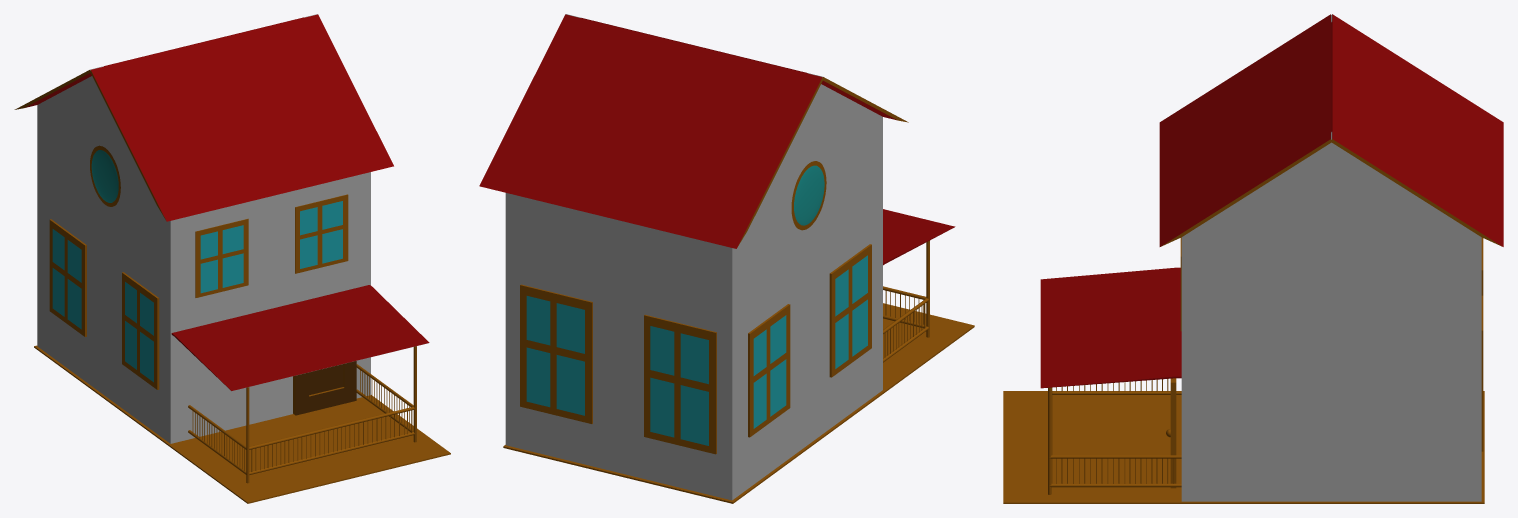
Rendered from unityev2.fbx.
3 views of the same model, side by side, from view 1: azimuth 30°, elevation 25°; view 2: azimuth 150°, elevation 25°; view 3: azimuth 270°, elevation 25° (orthographic). The views are drawn at different scales.
Visible parts, largest first — view 1: pasted__pCube1, pasted__pCube4, pCube1, pasted__pasted__pasted__pCube5, pasted__pasted__pasted__pasted__pCube5, pasted__pasted__pCube5, pasted__pCube5, pasted__pCube2, pSphere1, pSphere2, pasted__pasted__pasted__pCylinder3, pasted__pasted__pasted__pasted__pCylinder2; view 2: pasted__pCube1, pasted__pasted__pasted__pasted__pasted__pCube5, pasted__pasted__pasted__pasted__pasted__pasted__pCube5, pasted__pCube4, pasted__pCube5, pasted__pasted__pCube5, pCube1, pSphere1, pSphere2; view 3: pasted__pCube1, pasted__pCube4, pCube1, pasted__pCube2, pasted__pasted__pasted__pasted__pCylinder4.
Part boxes in pixels (left/top/right/bottom): pasted__pCube1: left=14, top=14, right=393, bottom=443; pasted__pCube4: left=34, top=345, right=450, bottom=503; pCube1: left=171, top=285, right=429, bottom=391; pasted__pasted__pasted__pCube5: left=195, top=218, right=248, bottom=297; pasted__pasted__pasted__pasted__pCube5: left=295, top=194, right=348, bottom=273; pasted__pasted__pCube5: left=122, top=272, right=159, bottom=389; pasted__pCube5: left=49, top=219, right=86, bottom=336; pasted__pCube2: left=293, top=361, right=356, bottom=415; pSphere1: left=90, top=145, right=120, bottom=206; pSphere2: left=91, top=150, right=118, bottom=202; pasted__pasted__pasted__pCylinder3: left=249, top=406, right=414, bottom=449; pasted__pasted__pasted__pasted__pCylinder2: left=249, top=432, right=414, bottom=474; pasted__pCube1: left=479, top=14, right=908, bottom=500; pasted__pasted__pasted__pasted__pasted__pCube5: left=520, top=284, right=592, bottom=423; pasted__pasted__pasted__pasted__pasted__pasted__pCube5: left=644, top=314, right=716, bottom=454; pasted__pCube4: left=503, top=303, right=974, bottom=503; pasted__pCube5: left=748, top=304, right=790, bottom=437; pasted__pasted__pCube5: left=829, top=244, right=871, bottom=377; pCube1: left=883, top=209, right=955, bottom=265; pSphere1: left=791, top=161, right=826, bottom=230; pSphere2: left=794, top=165, right=824, bottom=225; pasted__pCube1: left=1159, top=14, right=1503, bottom=501; pasted__pCube4: left=1003, top=391, right=1484, bottom=503; pCube1: left=1040, top=267, right=1181, bottom=388; pasted__pCube2: left=1170, top=378, right=1176, bottom=488; pasted__pasted__pasted__pasted__pCylinder4: left=1049, top=483, right=1181, bottom=487.
Size of the model in its own units: 5.61 by 7.79 by 9.5.
